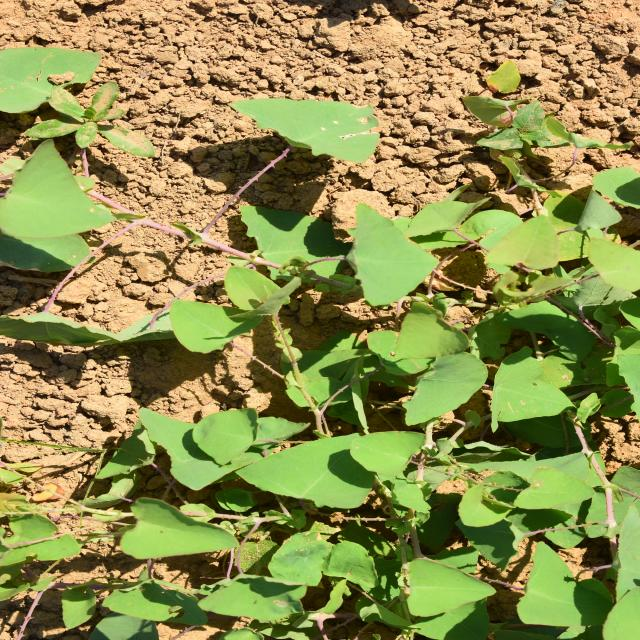Asiatic_Smartweed: (0, 378, 207, 615), (127, 145, 271, 440), (310, 325, 460, 606), (306, 0, 497, 163), (220, 360, 334, 604), (473, 228, 556, 396)
